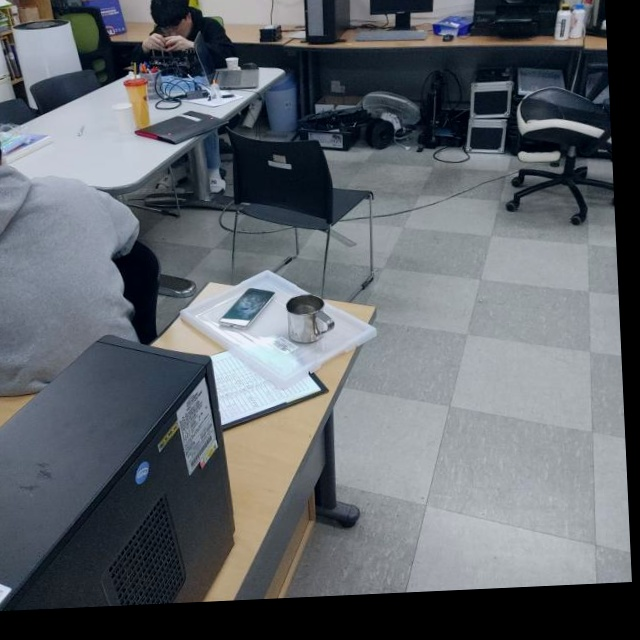cup: (284, 291, 335, 346)
phone: (221, 285, 275, 328)
